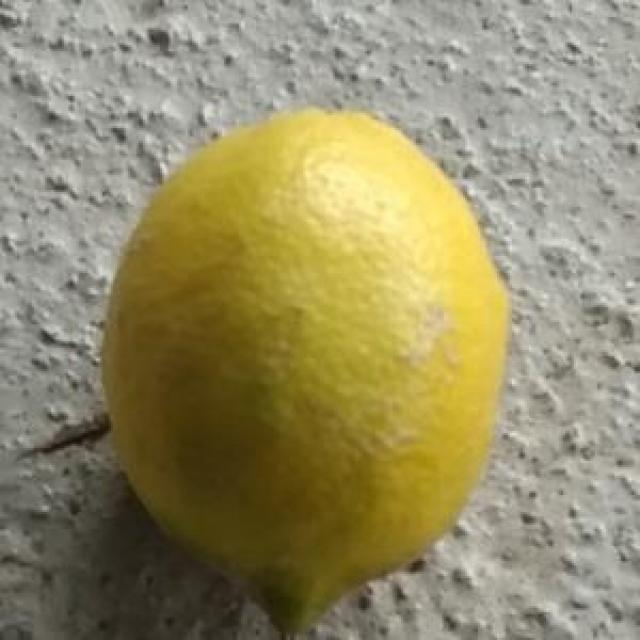lemon: (101, 100, 512, 640)
